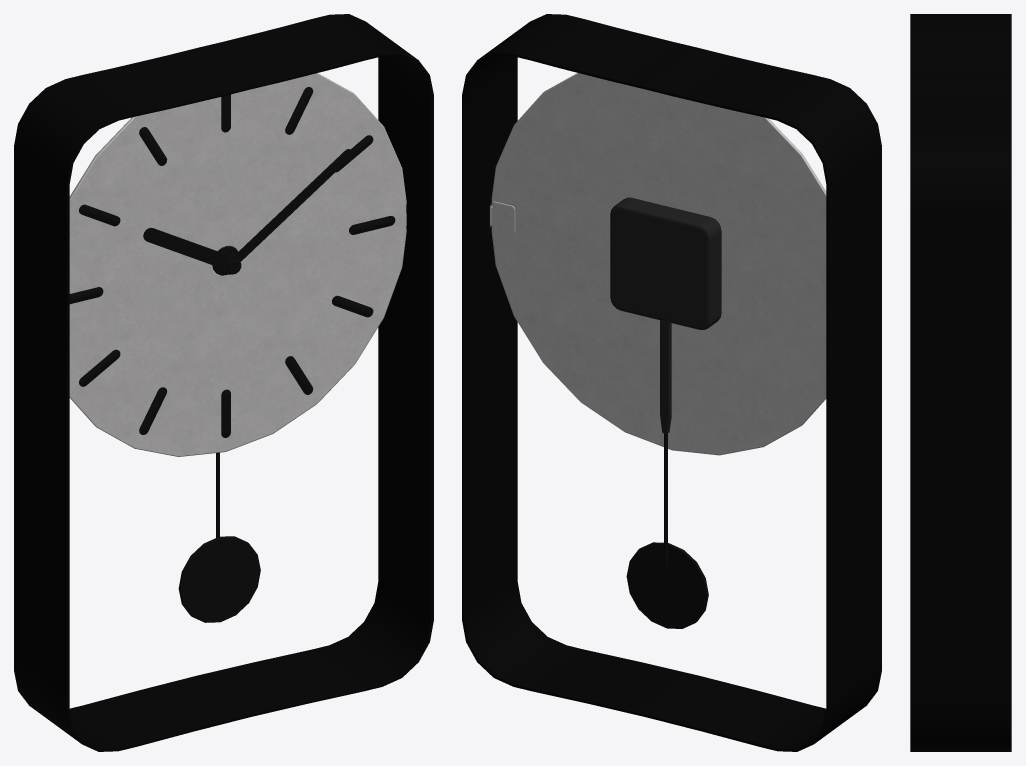
File: часы.glb
The picture shows the model from 3 angles, left to right: view 1: azimuth 30°, elevation 25°; view 2: azimuth 150°, elevation 25°; view 3: azimuth 270°, elevation 25°; orthographic projection. The views are drawn at different scales.
Visible parts, largest first — view 1: Body, Needle2, Needle1; view 2: Body; view 3: Body.
Part boxes in pixels (x1=…): Body: x1=14, y1=14, x2=433, y2=751; Needle2: x1=222, y1=149, x2=352, y2=274; Needle1: x1=143, y1=227, x2=234, y2=271; Body: x1=462, y1=14, x2=881, y2=751; Body: x1=910, y1=14, x2=1011, y2=751.
Bounding box in the file's own units: 0.2 × 0.33 × 0.05.
Materials: 1 (1 with a texture image).
